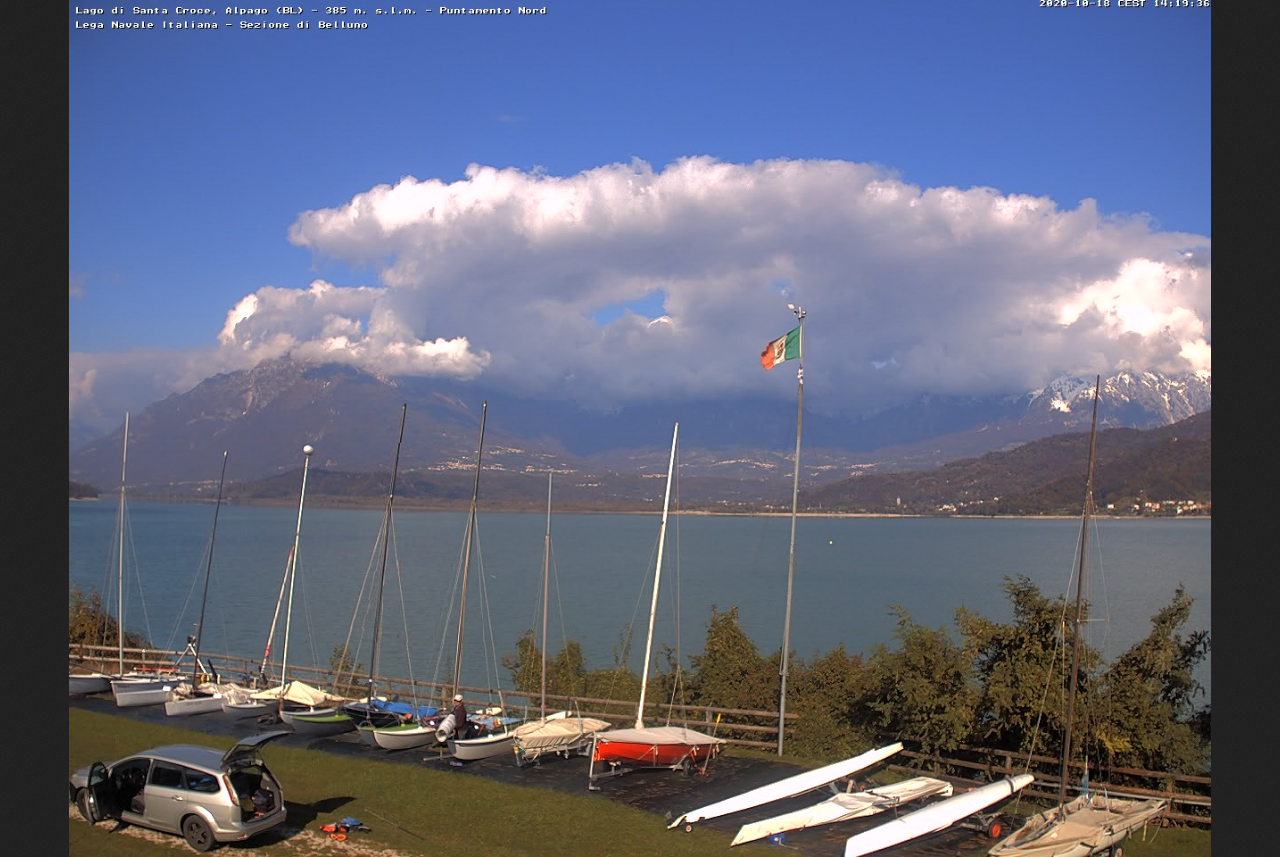maybe: (756, 321, 796, 372)
